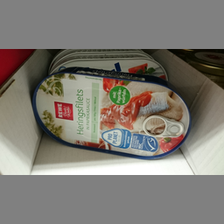fish: (32, 66, 191, 160)
